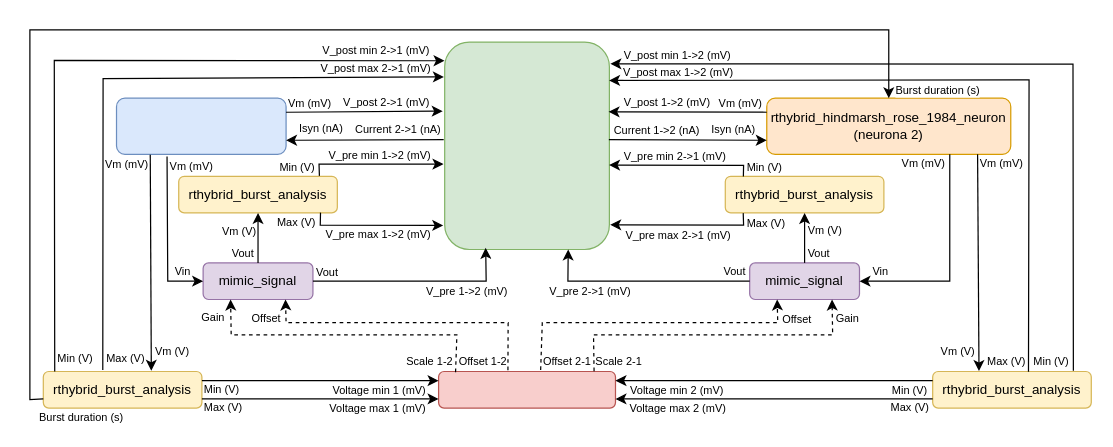
Image size: 1113x447. Some labels were removed from this diagram. Each missing label, with the centre of its shape:
bidirectional_chemical _synapse_BO: point (526, 145)
DAQ de la neurona viva (neurona 1): point (200, 125)
rthybrid_amplitude_scale_offset: point (526, 389)
